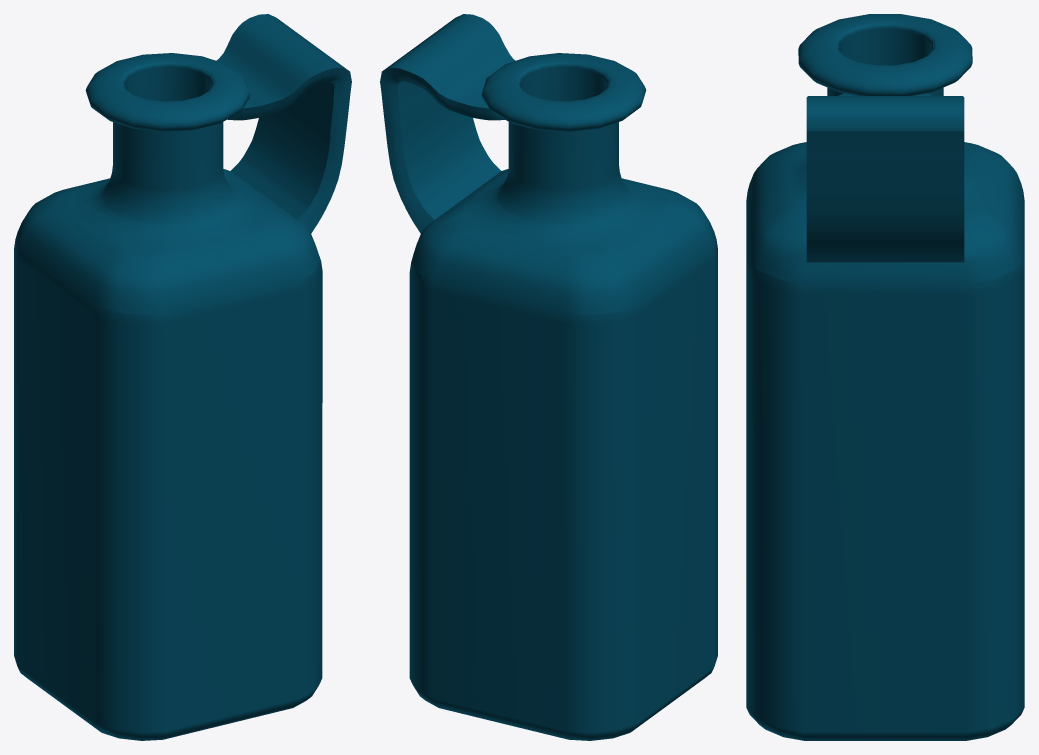
File: Glass Jar.fbx
3 views of the same model, side by side, from view 1: azimuth 30°, elevation 25°; view 2: azimuth 150°, elevation 25°; view 3: azimuth 270°, elevation 25° (orthographic). The views are drawn at different scales.
Parts seen in each view (by area): view 1: pCube5; view 2: pCube5; view 3: pCube5.
Part boxes in pixels (x1,y1,x2,y2): pCube5: (14, 14, 351, 740); pCube5: (380, 14, 717, 740); pCube5: (746, 14, 1024, 740).
Size of the model in its own units: 11.56 by 25.97 by 10.
